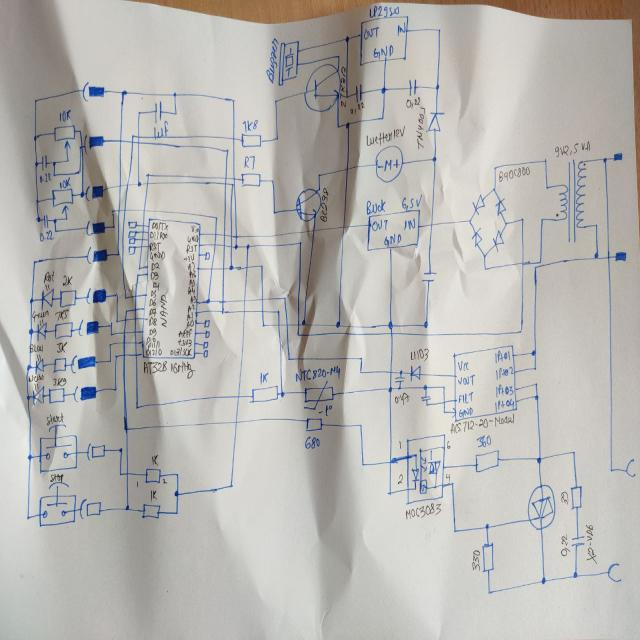capacitor: (419, 393, 435, 408), (421, 270, 437, 284), (153, 100, 162, 123), (407, 77, 417, 97), (40, 153, 50, 172), (570, 534, 584, 547), (354, 82, 362, 103), (40, 213, 49, 227)
crossover: (85, 244, 108, 267), (387, 457, 395, 466), (519, 260, 525, 268), (606, 253, 612, 261), (235, 392, 241, 399), (132, 328, 138, 335), (220, 298, 226, 305), (124, 470, 130, 477), (344, 165, 350, 172), (311, 227, 317, 234), (222, 180, 228, 187), (230, 135, 236, 142), (124, 182, 130, 188), (220, 266, 226, 272), (387, 369, 393, 375), (141, 207, 147, 213), (223, 174, 229, 180), (121, 339, 126, 346), (234, 233, 239, 240), (212, 241, 217, 248), (123, 316, 127, 323), (133, 315, 137, 322), (134, 351, 138, 358), (122, 351, 126, 358), (116, 207, 120, 214), (222, 231, 226, 238), (229, 243, 233, 250), (244, 263, 248, 270), (260, 308, 264, 315), (341, 223, 345, 230), (429, 221, 433, 228), (234, 418, 238, 425), (80, 143, 84, 150), (133, 306, 137, 312), (122, 329, 126, 335), (133, 340, 137, 346), (133, 292, 137, 298), (141, 222, 145, 228), (122, 206, 126, 212), (229, 232, 233, 238), (213, 231, 217, 237), (222, 242, 226, 248), (242, 297, 246, 303), (242, 308, 246, 314), (260, 296, 264, 302), (284, 321, 288, 327), (276, 322, 280, 328), (296, 321, 300, 327), (389, 330, 393, 336), (136, 139, 140, 145), (130, 138, 134, 144), (118, 138, 122, 144), (232, 174, 236, 180), (210, 265, 213, 272), (139, 244, 143, 249), (140, 229, 144, 234), (145, 181, 149, 186), (136, 134, 140, 139), (118, 182, 121, 188), (140, 237, 144, 241)
diode: (424, 110, 444, 133), (40, 284, 54, 310), (31, 382, 45, 406), (471, 193, 485, 216), (35, 318, 48, 341), (33, 353, 47, 374), (408, 362, 422, 382), (494, 194, 506, 217), (492, 229, 504, 252), (470, 226, 482, 247)
ground: (613, 248, 627, 262)
junction: (592, 251, 600, 260), (379, 85, 386, 94), (120, 87, 126, 97), (422, 319, 428, 329), (272, 207, 279, 215), (27, 452, 33, 461), (431, 154, 437, 163), (35, 214, 41, 223), (279, 389, 285, 398), (387, 320, 393, 329), (536, 455, 542, 464), (540, 576, 546, 585), (32, 133, 38, 142), (386, 489, 393, 496), (483, 522, 489, 530), (173, 489, 179, 497), (244, 242, 250, 250), (543, 183, 549, 191), (602, 155, 608, 163), (25, 513, 31, 521), (228, 263, 234, 271), (228, 481, 234, 489), (519, 215, 525, 223), (204, 296, 210, 304), (344, 120, 350, 128), (387, 384, 393, 392), (28, 296, 34, 304), (490, 185, 496, 193), (76, 167, 82, 175), (532, 380, 538, 388), (122, 425, 128, 433), (301, 318, 307, 326), (335, 320, 341, 328), (530, 348, 536, 356), (533, 392, 539, 400), (572, 571, 578, 579), (344, 34, 349, 43), (124, 504, 130, 511), (451, 527, 457, 534), (570, 448, 576, 455), (486, 588, 492, 595), (230, 96, 236, 103), (539, 215, 545, 222), (542, 156, 548, 163), (357, 421, 363, 428), (608, 465, 614, 472), (269, 177, 275, 184), (172, 109, 178, 116), (357, 368, 363, 375), (260, 321, 266, 328), (232, 243, 238, 250), (136, 180, 142, 187), (28, 327, 34, 334), (434, 83, 439, 91), (171, 91, 177, 97), (223, 147, 229, 153), (32, 97, 38, 103), (108, 321, 114, 327), (436, 26, 441, 33), (220, 308, 225, 315), (32, 257, 36, 265), (316, 172, 321, 178), (174, 471, 179, 477), (136, 110, 141, 116), (274, 135, 279, 141), (297, 239, 302, 245), (134, 403, 139, 409), (113, 292, 118, 298), (144, 172, 150, 177), (282, 294, 287, 300), (518, 328, 524, 333), (273, 98, 278, 104), (26, 363, 31, 369), (118, 446, 122, 453), (113, 385, 117, 392), (594, 221, 598, 228), (482, 252, 486, 259), (115, 317, 119, 324), (110, 208, 114, 215), (34, 160, 38, 167), (345, 93, 349, 100), (108, 331, 113, 336), (174, 509, 178, 515), (214, 214, 218, 220), (286, 356, 290, 362), (483, 265, 487, 271), (123, 307, 127, 313), (113, 353, 117, 359), (118, 470, 122, 476), (276, 308, 280, 314), (492, 164, 496, 170), (296, 331, 300, 337), (260, 262, 264, 268), (359, 356, 363, 362), (533, 366, 537, 372), (137, 264, 141, 270), (116, 250, 120, 256), (130, 132, 134, 138), (52, 160, 56, 166), (504, 220, 508, 226), (468, 218, 472, 224), (230, 182, 234, 188), (380, 115, 384, 121), (336, 122, 340, 128), (336, 54, 340, 60), (80, 191, 84, 197), (53, 218, 57, 224), (112, 223, 115, 230), (360, 461, 364, 466), (450, 481, 454, 486), (65, 157, 69, 162), (52, 172, 56, 177), (78, 129, 82, 134), (534, 265, 538, 270), (538, 258, 542, 263), (64, 215, 68, 220), (54, 227, 58, 232), (26, 394, 30, 399), (123, 295, 127, 299), (136, 273, 140, 277), (108, 341, 111, 346)
resistor: (472, 448, 500, 474), (51, 185, 74, 213), (53, 123, 76, 150), (248, 384, 278, 403), (481, 540, 494, 572), (238, 132, 262, 148), (52, 320, 72, 339), (58, 287, 76, 308), (239, 171, 261, 188), (570, 483, 582, 510), (47, 386, 65, 404), (141, 503, 161, 519), (52, 355, 68, 374), (144, 467, 161, 484), (304, 416, 322, 432)
switch: (38, 423, 78, 474), (38, 481, 76, 528)
terminal: (606, 561, 622, 583), (624, 456, 636, 476), (613, 152, 623, 162)
text: (448, 412, 516, 433), (142, 359, 198, 381), (365, 124, 405, 148), (404, 499, 442, 520), (294, 365, 340, 382), (266, 37, 278, 83), (498, 165, 530, 182), (584, 522, 596, 563), (367, 4, 399, 19), (415, 106, 425, 150), (364, 197, 386, 215), (468, 545, 482, 573), (153, 119, 169, 141), (400, 193, 422, 209), (318, 186, 328, 221), (338, 65, 346, 108), (159, 292, 168, 328), (409, 347, 429, 361), (373, 44, 393, 58), (572, 139, 590, 154), (369, 216, 387, 231), (495, 396, 515, 409), (495, 382, 513, 396), (456, 373, 474, 387), (46, 411, 64, 425), (494, 348, 510, 363), (362, 24, 378, 39), (317, 403, 333, 418), (244, 154, 258, 171), (559, 533, 569, 556), (405, 96, 421, 110), (476, 434, 492, 448), (304, 435, 320, 449), (553, 144, 569, 158), (456, 391, 473, 404), (384, 233, 401, 246), (151, 219, 171, 230), (169, 347, 191, 357), (30, 309, 51, 319), (61, 273, 75, 288), (242, 118, 258, 131), (393, 391, 409, 404), (349, 102, 365, 115), (558, 488, 568, 508), (148, 230, 168, 240), (455, 406, 473, 417), (54, 339, 68, 353), (402, 218, 416, 232), (37, 228, 53, 240), (494, 366, 513, 376), (457, 358, 471, 371), (58, 109, 73, 121), (52, 374, 67, 386), (177, 328, 193, 339), (149, 250, 165, 261), (43, 269, 55, 283), (257, 368, 269, 382), (38, 172, 52, 184), (146, 347, 164, 356), (28, 372, 44, 382), (394, 22, 406, 35), (50, 472, 64, 483), (28, 343, 44, 352), (394, 370, 402, 388), (176, 338, 192, 347), (148, 241, 161, 252), (146, 340, 160, 350), (185, 243, 197, 254), (59, 178, 72, 188), (186, 234, 199, 244), (182, 253, 195, 262), (56, 311, 70, 319), (149, 270, 159, 281), (147, 315, 157, 326), (149, 489, 157, 502), (151, 453, 159, 466), (147, 297, 157, 307), (189, 224, 199, 233), (184, 320, 193, 330), (187, 286, 196, 296), (150, 262, 160, 271), (148, 307, 157, 317), (145, 336, 155, 345), (152, 280, 160, 291), (396, 473, 403, 485), (187, 261, 195, 271), (148, 326, 156, 336), (189, 295, 197, 304), (188, 270, 196, 279), (186, 312, 193, 322), (187, 303, 194, 313), (444, 472, 450, 481), (150, 289, 156, 298), (398, 439, 402, 450), (162, 477, 168, 484), (188, 279, 195, 285), (446, 440, 450, 450), (136, 478, 140, 488)
transformer: (555, 157, 587, 243)
transistor: (303, 62, 341, 112), (294, 186, 320, 222)
